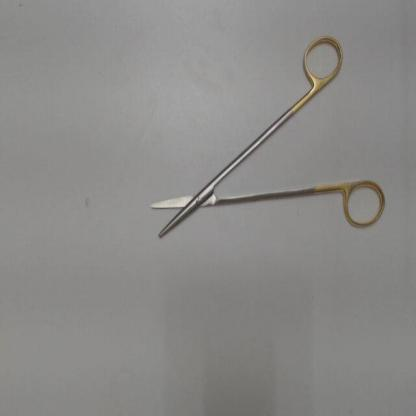7 Metzenbaum Scissors: (147, 27, 390, 246)
